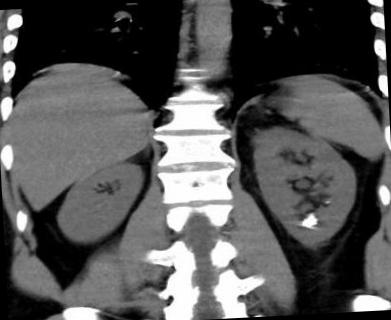Tas_Var: (298, 218, 322, 229), (306, 214, 315, 219), (324, 200, 330, 204)
